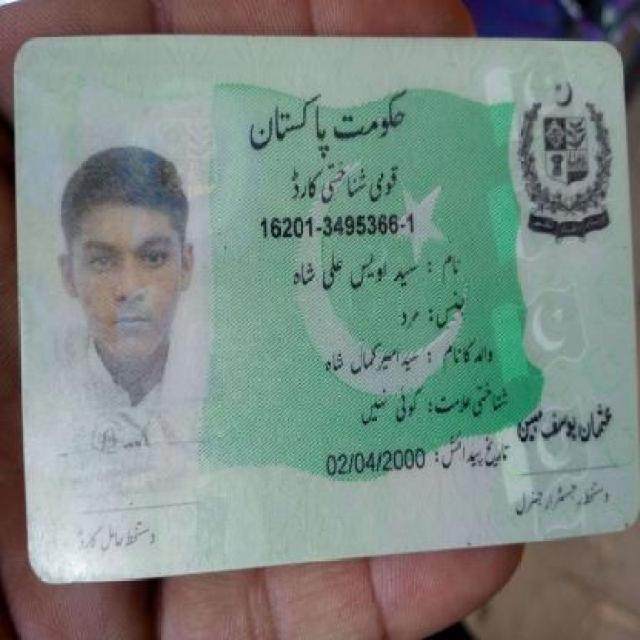Front: (11, 26, 638, 569)
